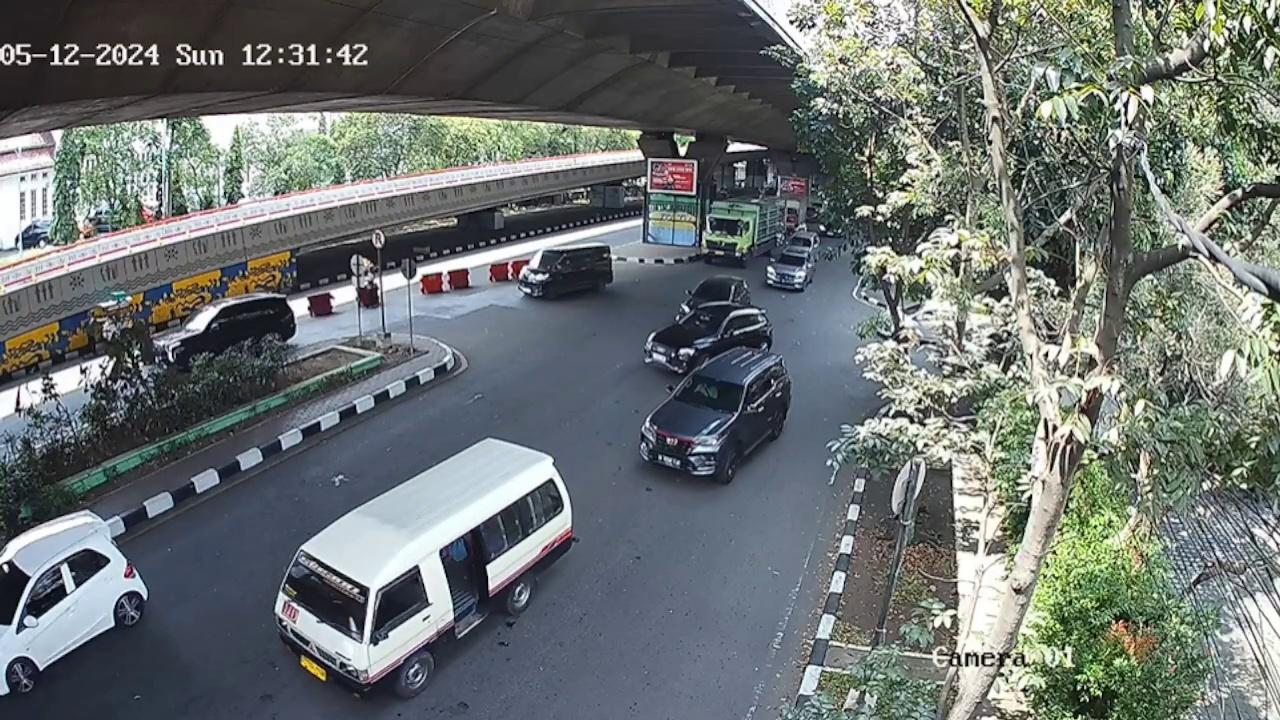pakai: (693, 379, 721, 404)
windshield: (279, 546, 373, 640), (677, 369, 746, 414)
